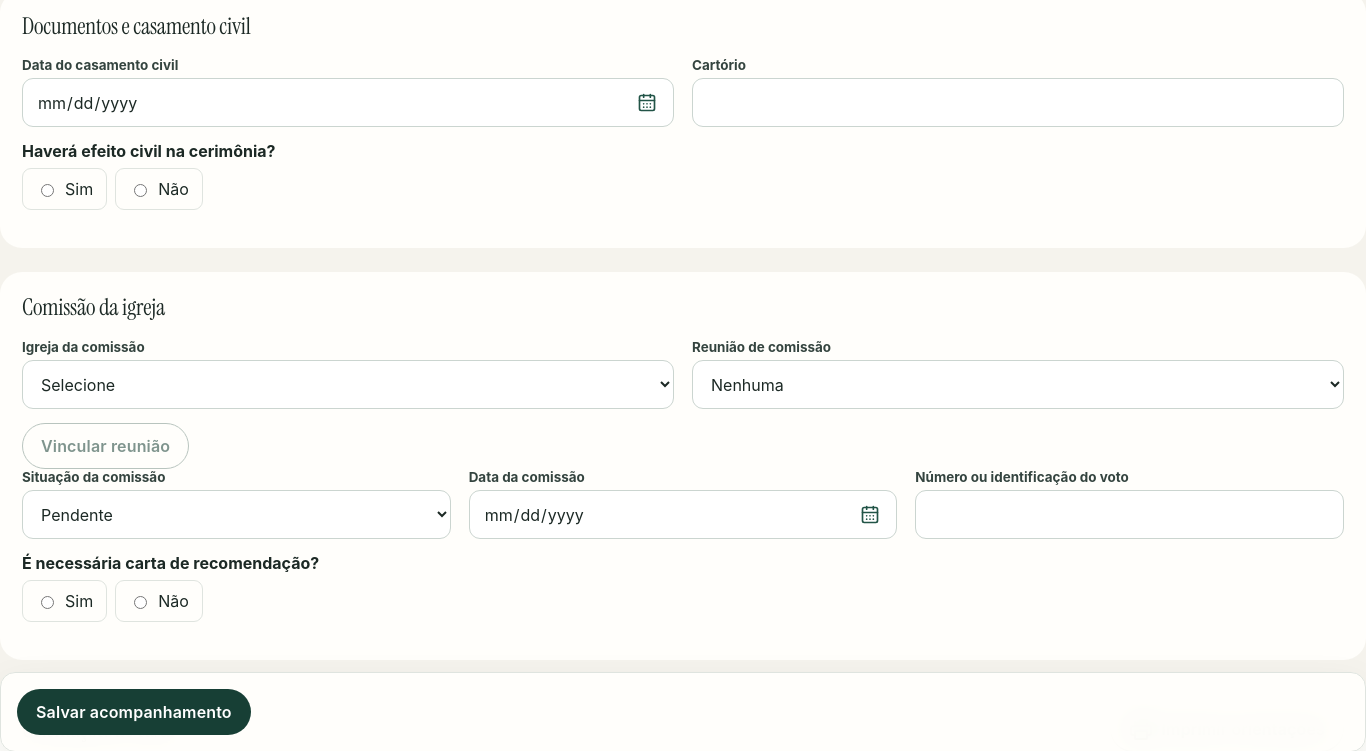
Test case: página do acompanhamento › comissão: a frase de recomendação só com situação, igreja e data
(page scrolled)
Select "Igreja Central Fictícia" in the dropdown labelled "Igreja da comissão" at (348, 384), box [22, 360, 674, 409]
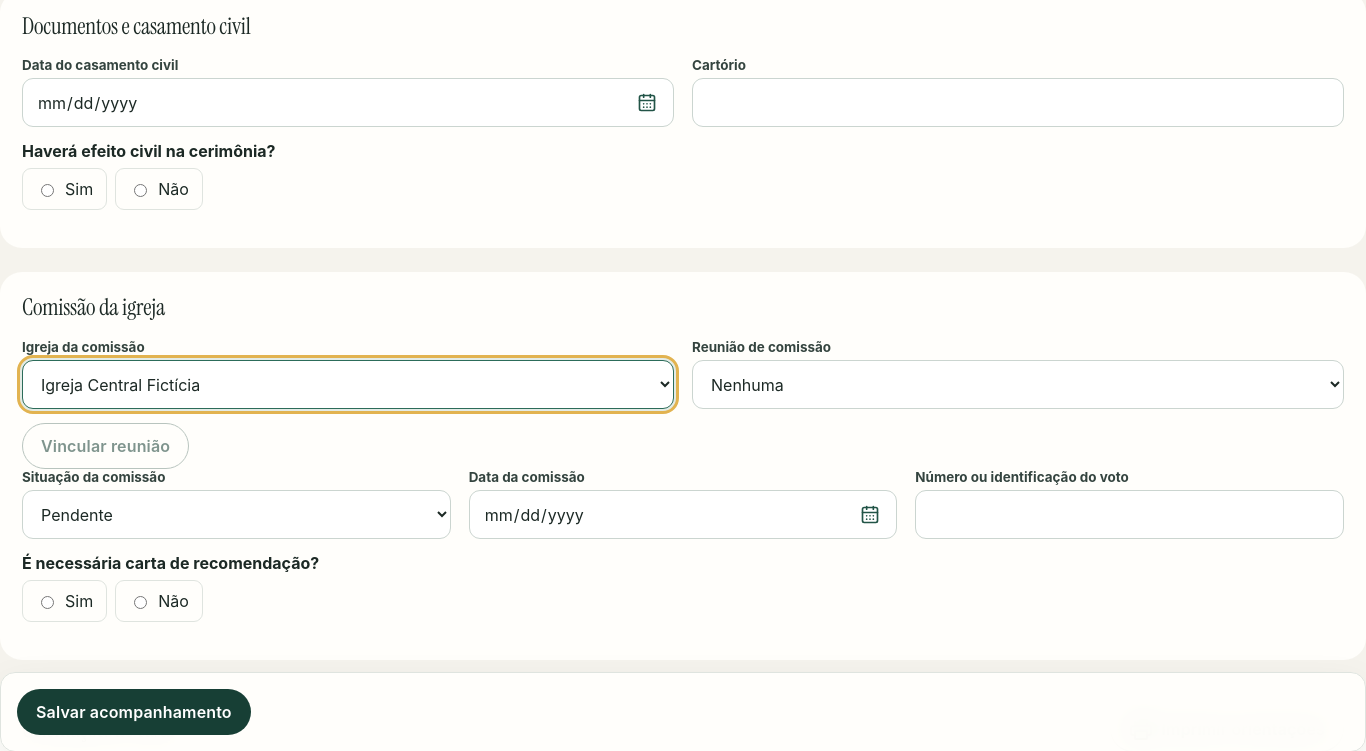
Select "Recomendada" in the dropdown labelled "Situação da comissão" at (236, 514), box [22, 490, 451, 539]
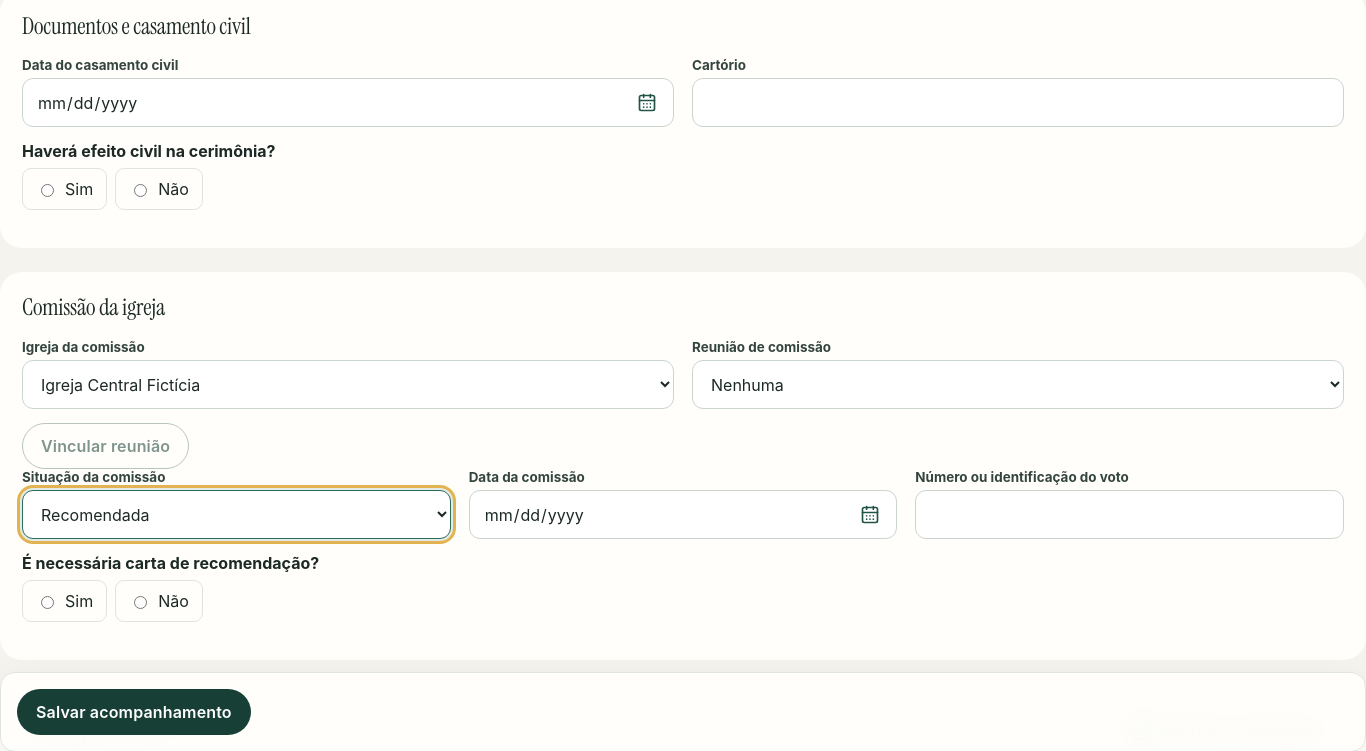
Check: the text "Recomendação feita pela Comissão" is not shown
Type "2026-10-05" into the date field labelled "Data da comissão" at (683, 514), box [469, 490, 897, 539]
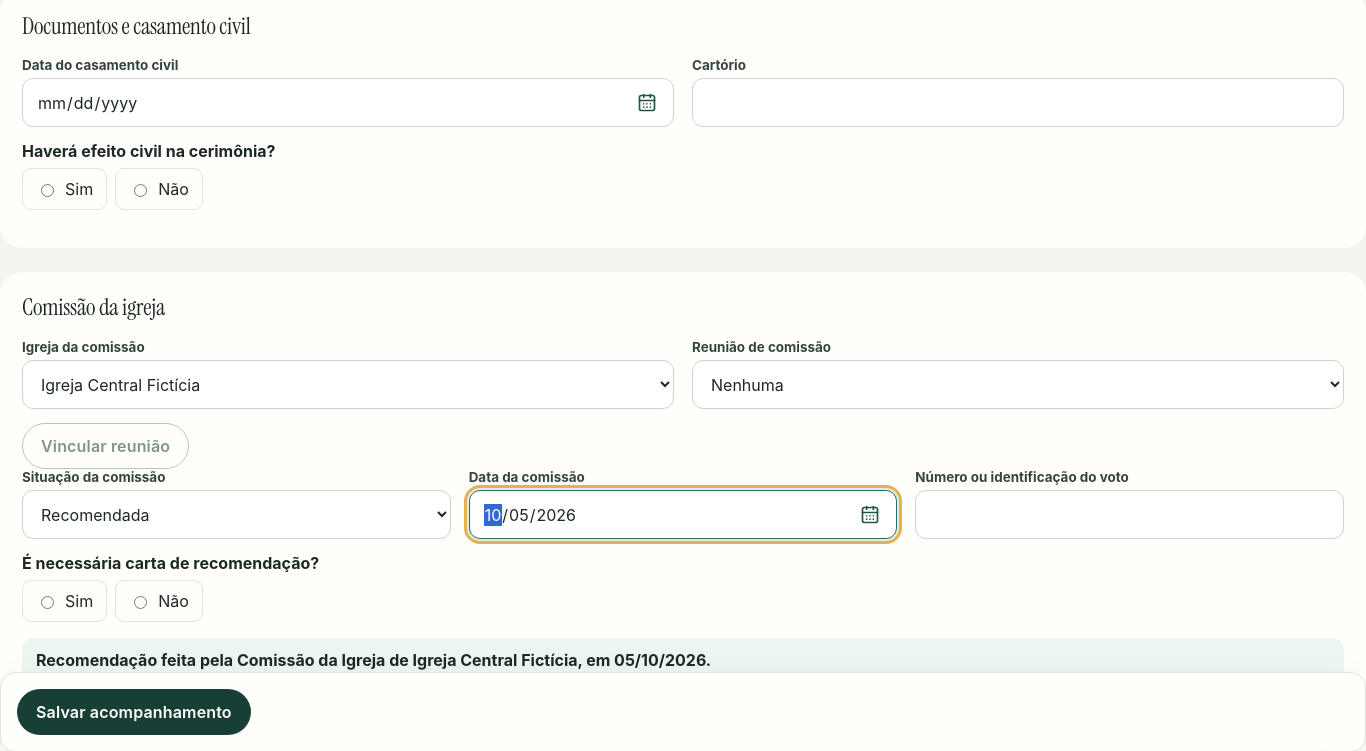
Check: the text "Recomendação feita pela Comissão da Igreja de Igreja Central Fictícia, em 05/10/2026." is shown, box [36, 650, 711, 670]
